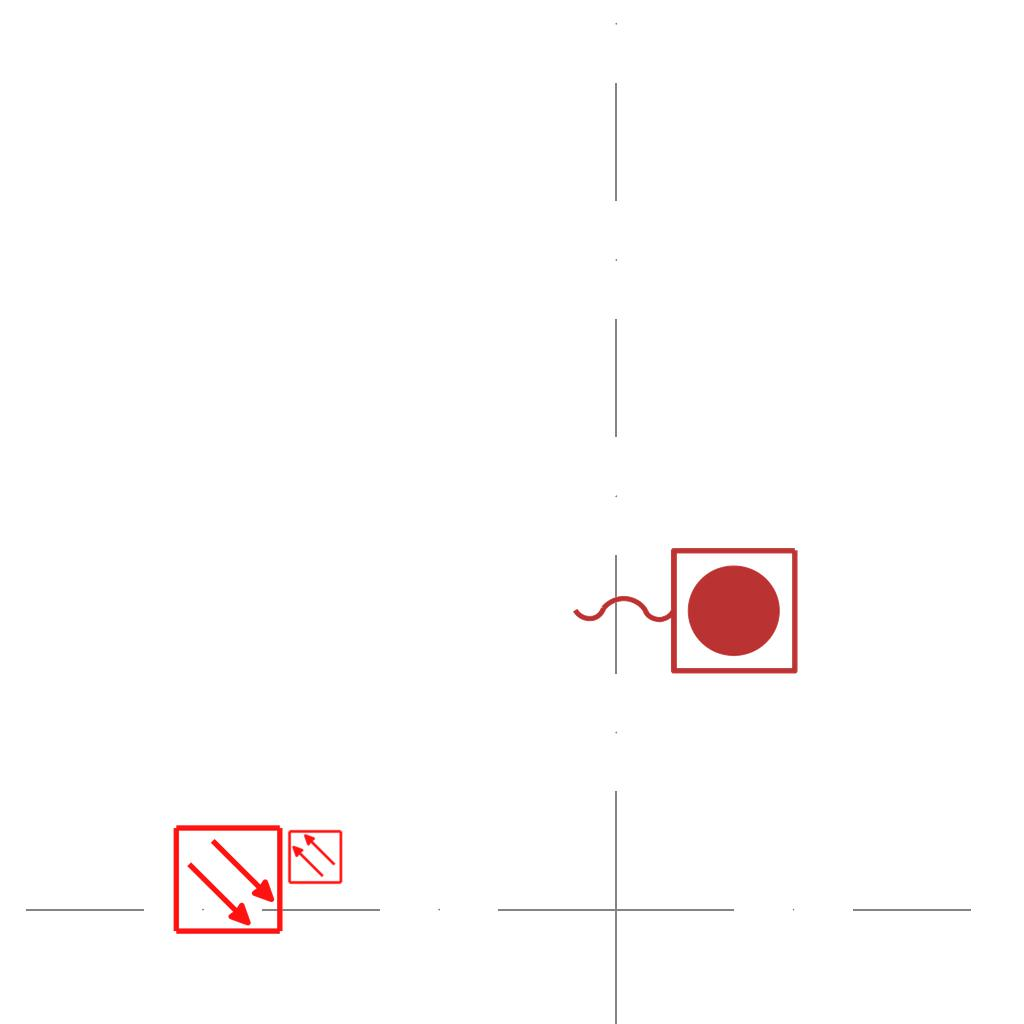RMO_Rauchmelder_optischer: (172, 823, 285, 936), (287, 829, 343, 885)
Zugtaster: (562, 537, 806, 681)
